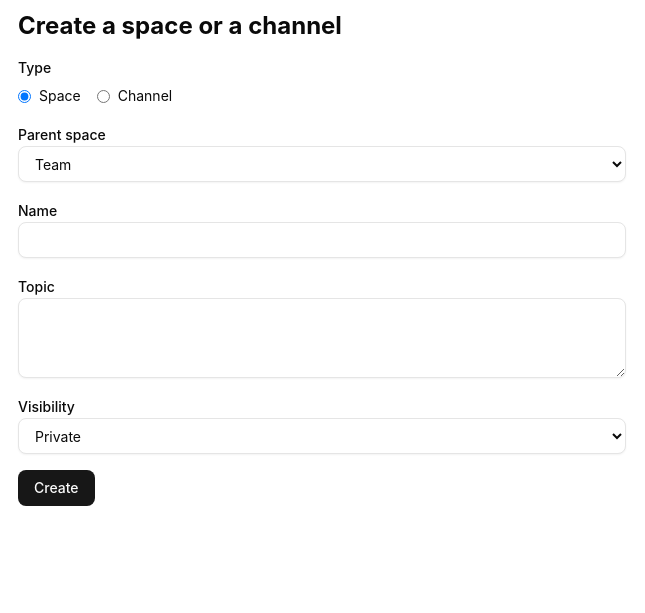
Test: CreateRoomForm › attaches the field issues of a 422 to their fields
The image size is (645, 613).
In the field labelled "Name": (322, 240) x1=18 y1=222 x2=626 y2=258, type "Design"
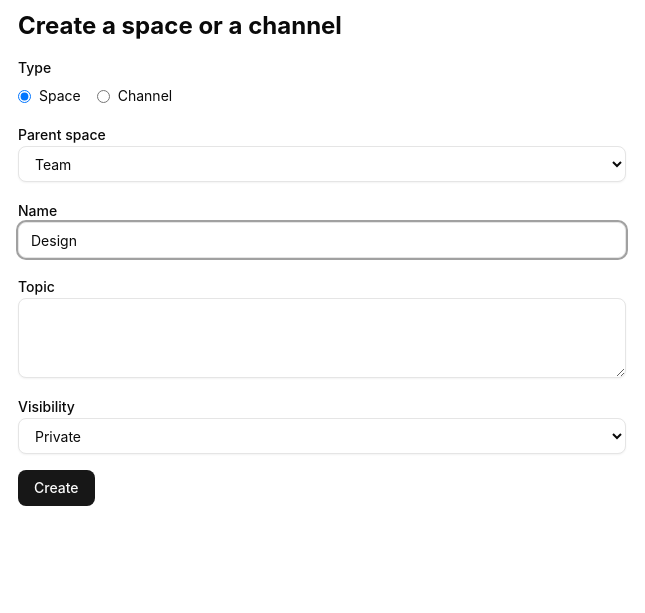
Click the button "Create": (56, 488) x1=18 y1=470 x2=95 y2=506
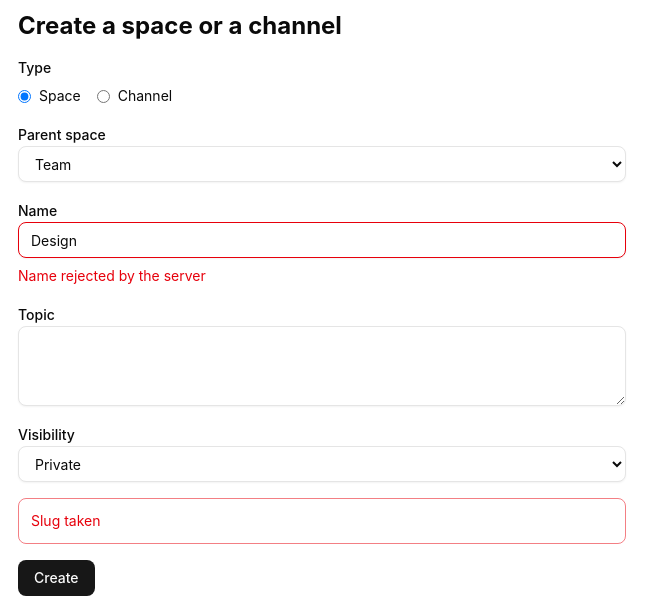
Expected: the text "Slug taken" is shown, x1=18 y1=498 x2=626 y2=544
